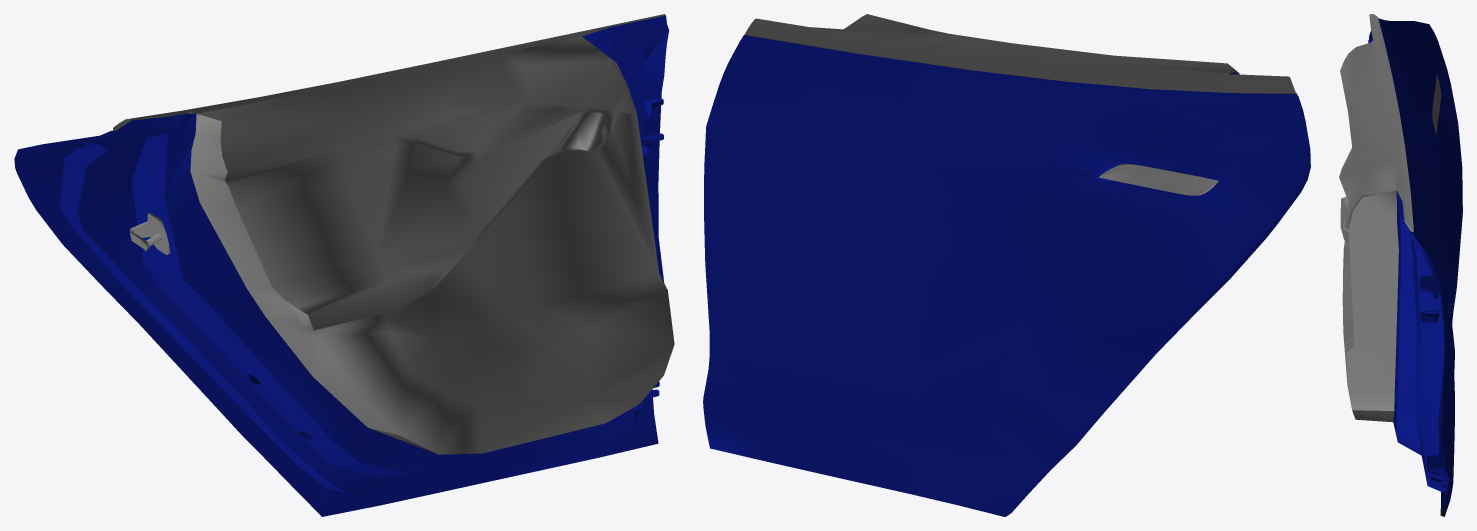
Rendered from Door_LR.obj.
3 renders of one model, left to right at view 1: azimuth 30°, elevation 25°; view 2: azimuth 150°, elevation 25°; view 3: azimuth 270°, elevation 25°, orthographic. The views are drawn at different scales.
Visible parts, largest first — view 1: Door_LR; view 2: Door_LR; view 3: Door_LR.
Boxes of the visible parts, bbox=[...] form: Door_LR: bbox=[14, 14, 674, 516]; Door_LR: bbox=[703, 14, 1310, 516]; Door_LR: bbox=[1339, 14, 1462, 516].
Size of the model in its own units: 1.09 by 0.8123 by 0.2823.
